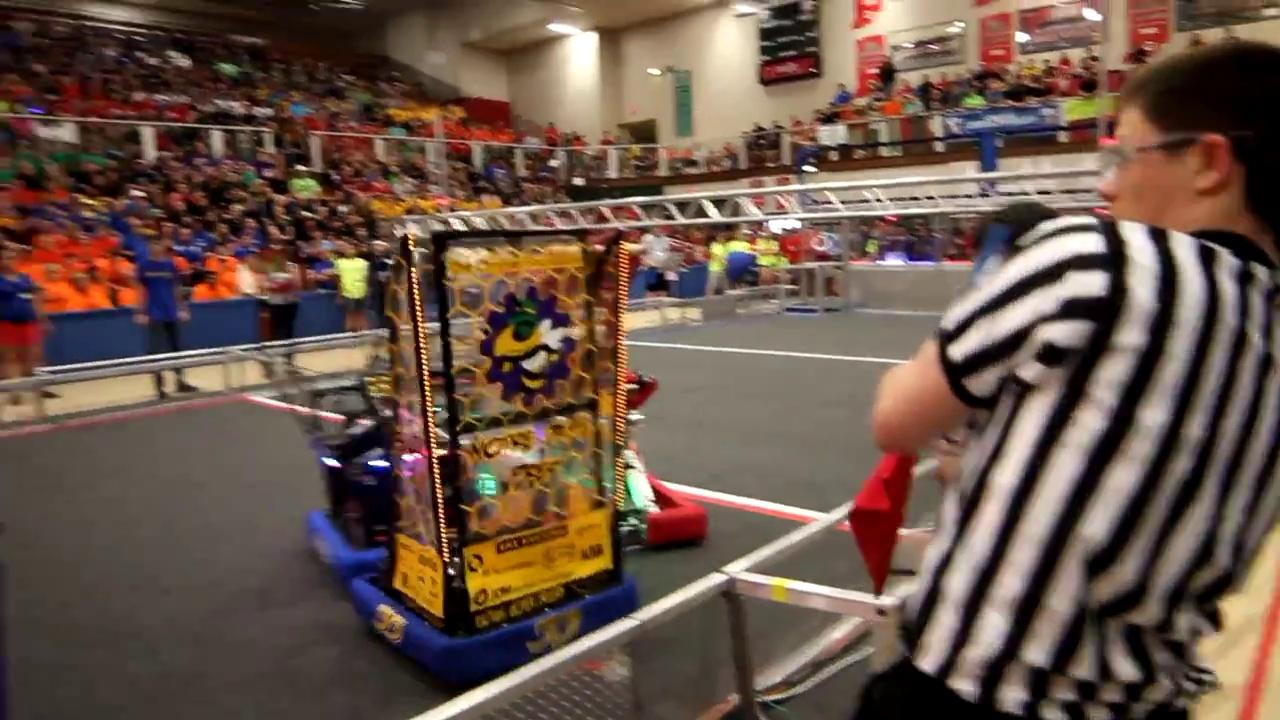robot: (345, 218, 645, 682), (298, 362, 514, 586), (476, 356, 710, 560)
